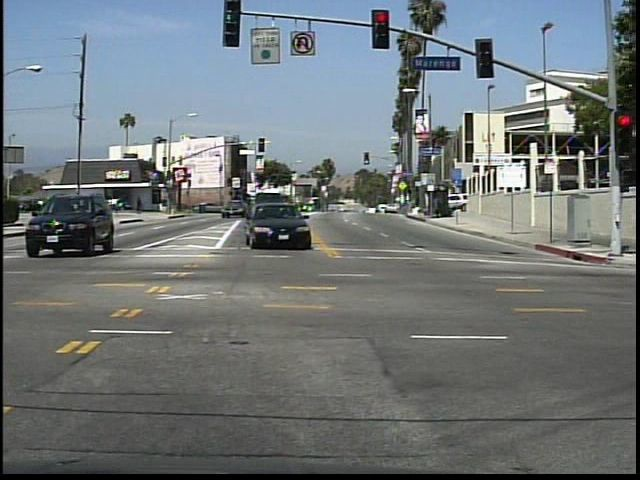person: (135, 195, 147, 217)
